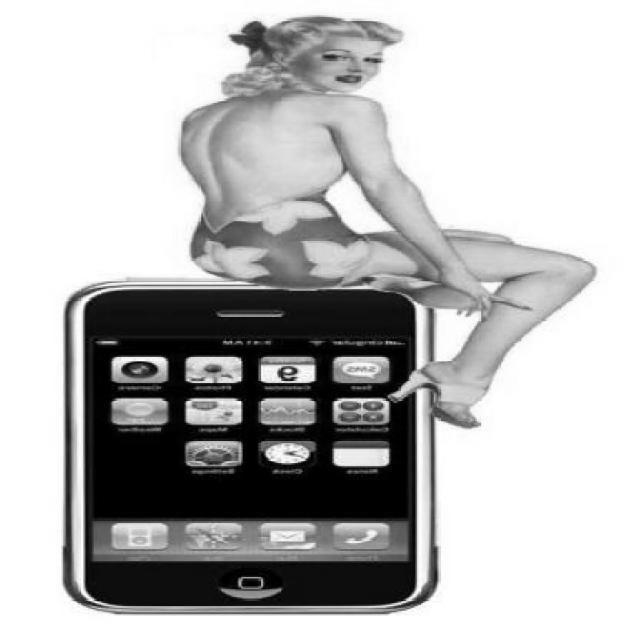fake: (64, 275, 442, 617)
